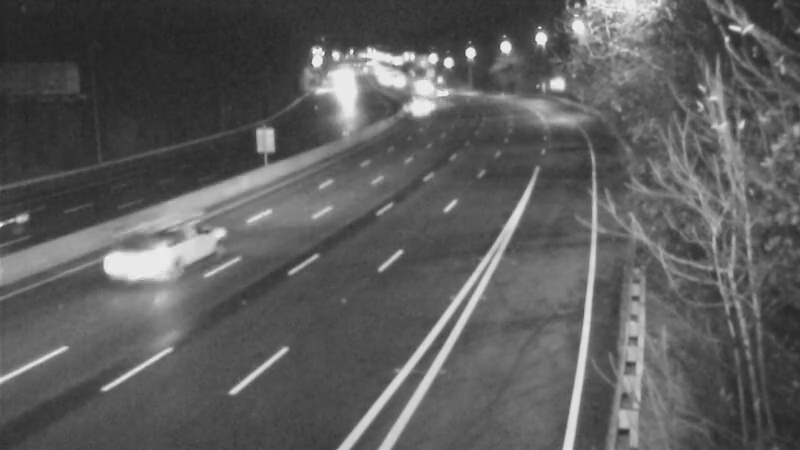vehicle: (114, 217, 194, 297), (1, 183, 70, 263), (416, 67, 466, 117), (396, 81, 446, 131)
